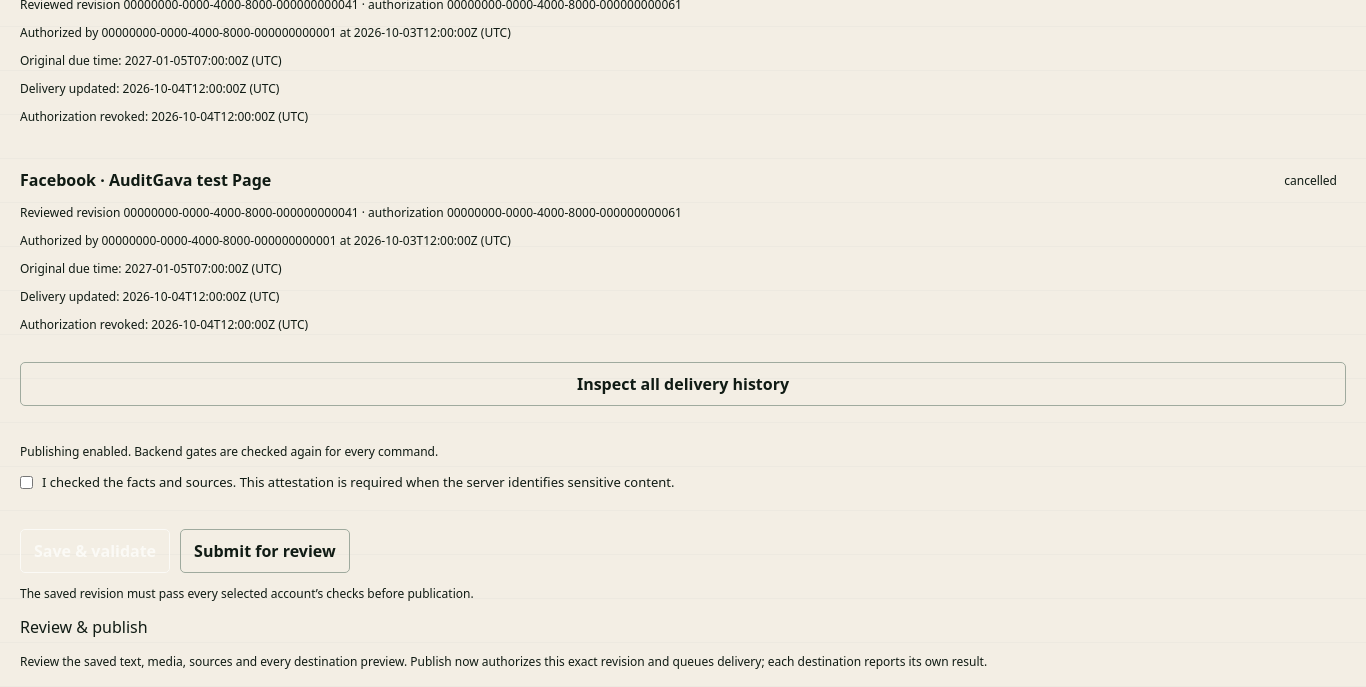
history endpoint is fetched only on inspection and pages exact post receipts
(page scrolled)
Click the button "Inspect all delivery history" at (683, 384), box [20,362,1346,406]
(page scrolled)
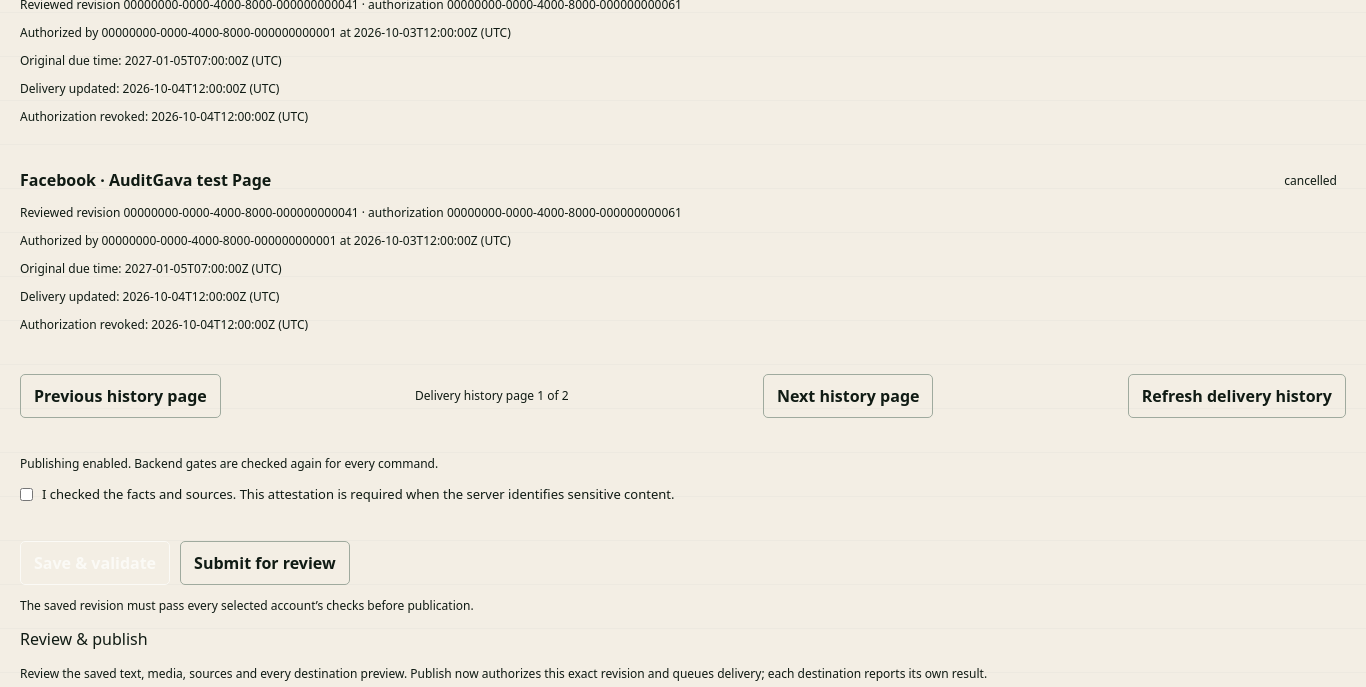
Check: the text "Delivery history page 1 of 2" is shown, box [415,387,569,405]
Click the button "Next history page" at (848, 396), box [763,374,934,418]
(page scrolled)
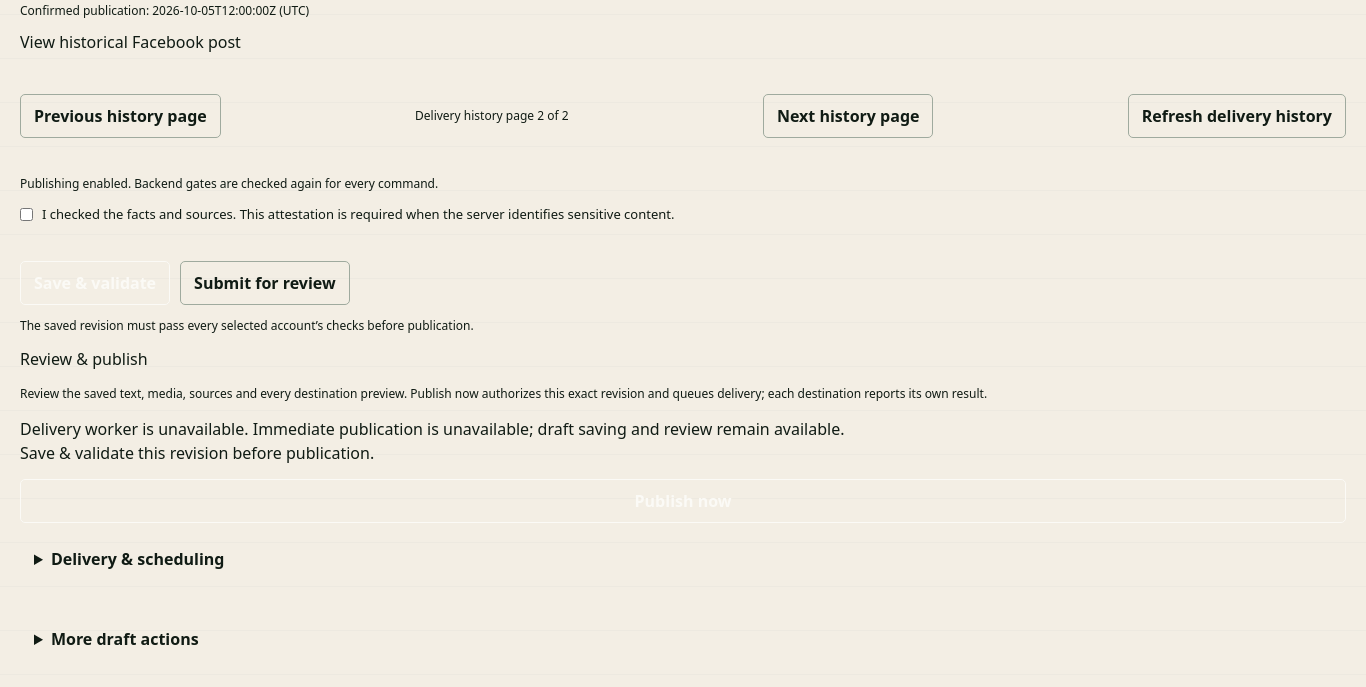
Check: the text "Confirmed publication: 2026-10-05T12:00:00Z (UTC)" is shown, box [20,2,309,19]
